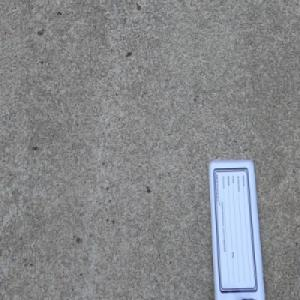LuggageTag: (207, 154, 268, 300)
